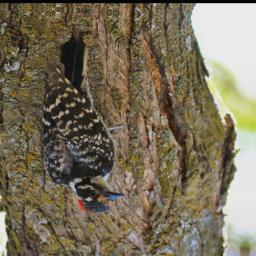Woodpecker: (42, 26, 134, 218)
